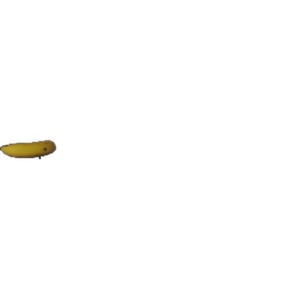banana: (1, 134, 59, 162)
